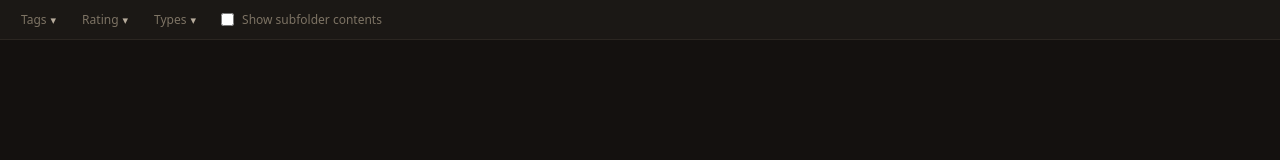
it: inside a folder (ADR-0035 §8) › draws the library's list for a menu the answer leaves alone (§9)
Step 1. Click the button "Tags ▾" → x=39, y=20, box [12, 6, 65, 34]
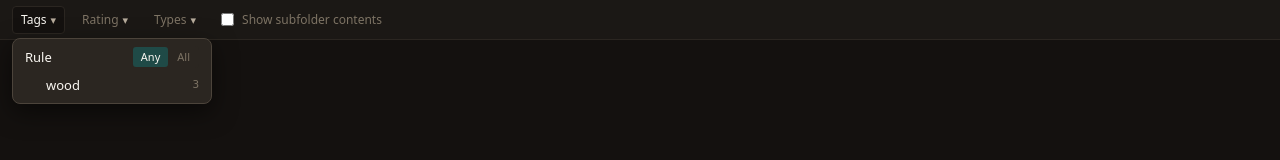
Step 2. Press Escape
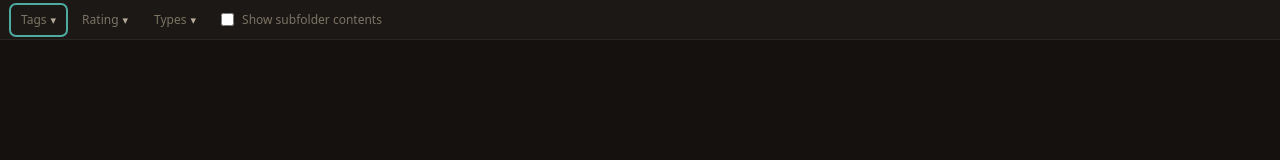
Step 3. Click the button "Types ▾" → x=175, y=20, box [145, 6, 205, 34]
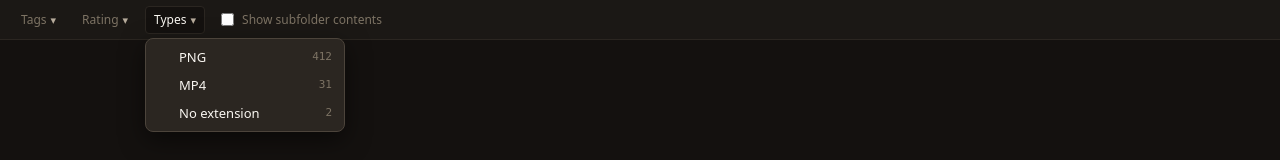
Expected: the number of menu items is 3, [179, 48, 332, 66]; [179, 76, 332, 94]; [179, 104, 332, 122]
